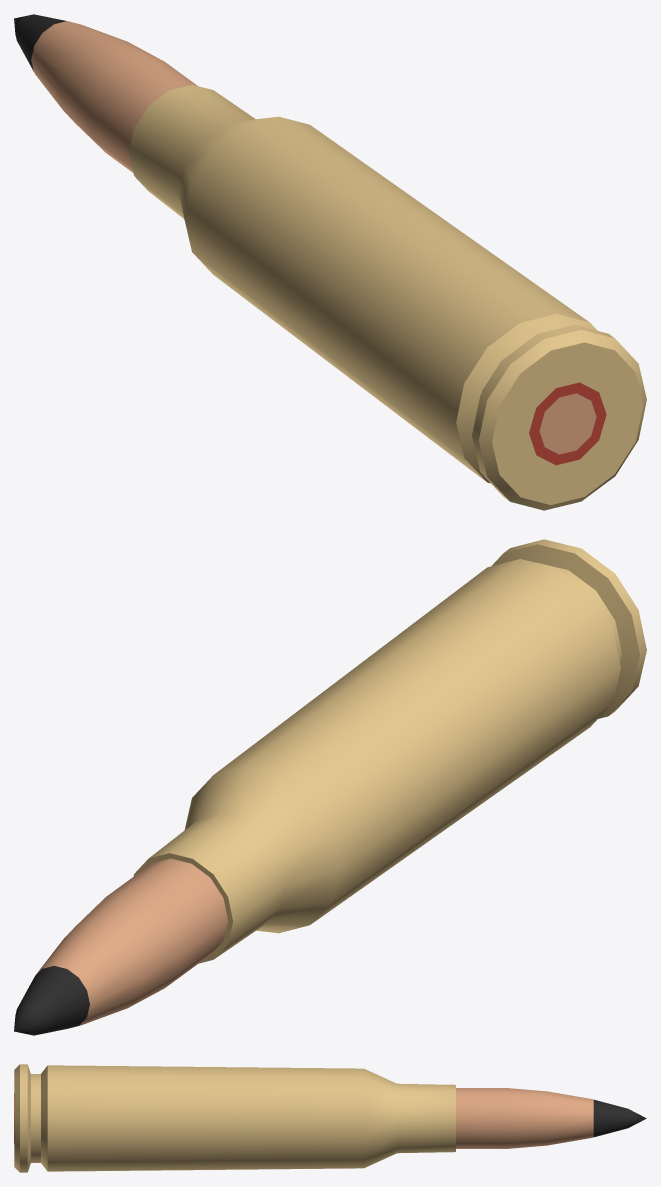
The model's file is round_545_ap.glb.
The picture shows the model from 3 angles, top to bottom: view 1: azimuth 30°, elevation 25°; view 2: azimuth 150°, elevation 25°; view 3: azimuth 270°, elevation 25°; orthographic projection. The views are drawn at different scales.
Visible parts, largest first — view 1: body; view 2: body; view 3: body.
Part boxes in pixels (left/top/right/bottom): body: left=14, top=14, right=646, bottom=510; body: left=14, top=539, right=646, bottom=1035; body: left=14, top=1064, right=646, bottom=1172.
Bounding box in the file's own units: 0.01 × 0.00975 × 0.057.
